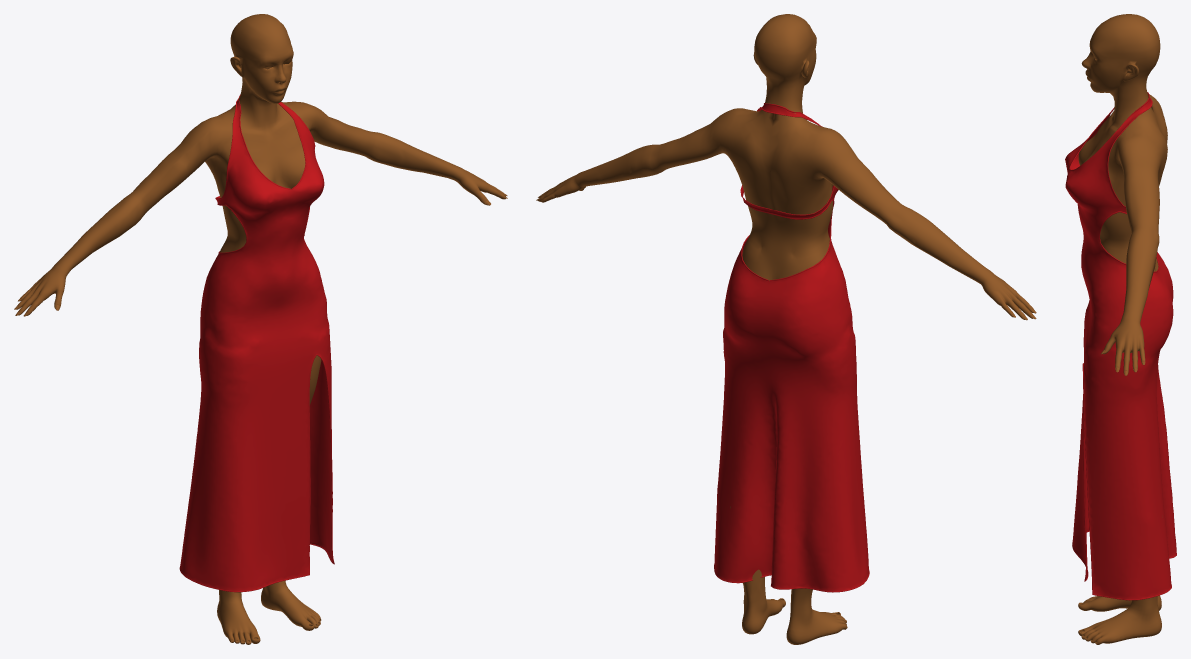
The model's file is dress3.glb.
The picture shows the model from 3 angles, left to right: view 1: azimuth 30°, elevation 25°; view 2: azimuth 150°, elevation 25°; view 3: azimuth 270°, elevation 25°; orthographic projection.
Parts seen in each view (by area): view 1: EveningDress, Body; view 2: EveningDress, Body; view 3: EveningDress, Body.
Part boxes in pixels (<box>): EveningDress: <box>179,94,334,592</box>; Body: <box>16,14,506,644</box>; EveningDress: <box>714,103,869,592</box>; Body: <box>538,14,1033,644</box>; EveningDress: <box>1065,92,1176,600</box>; Body: <box>1078,14,1167,644</box>.
Bounding box in the file's own units: 1.58 × 1.85 × 0.3089.
